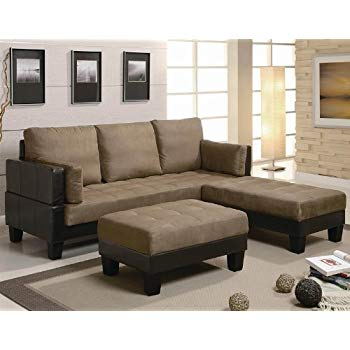chairs: (7, 118, 261, 259)
